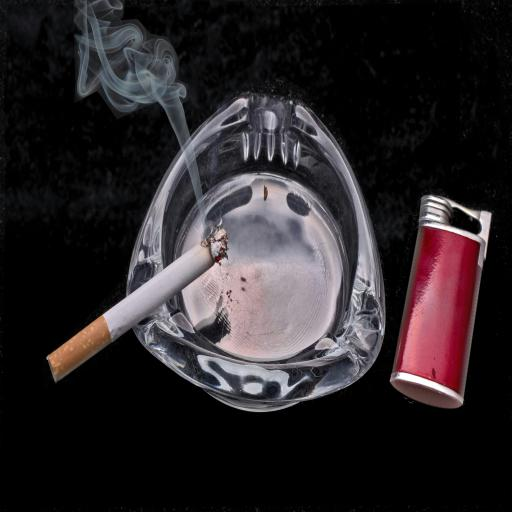lighter: (398, 150, 486, 437)
